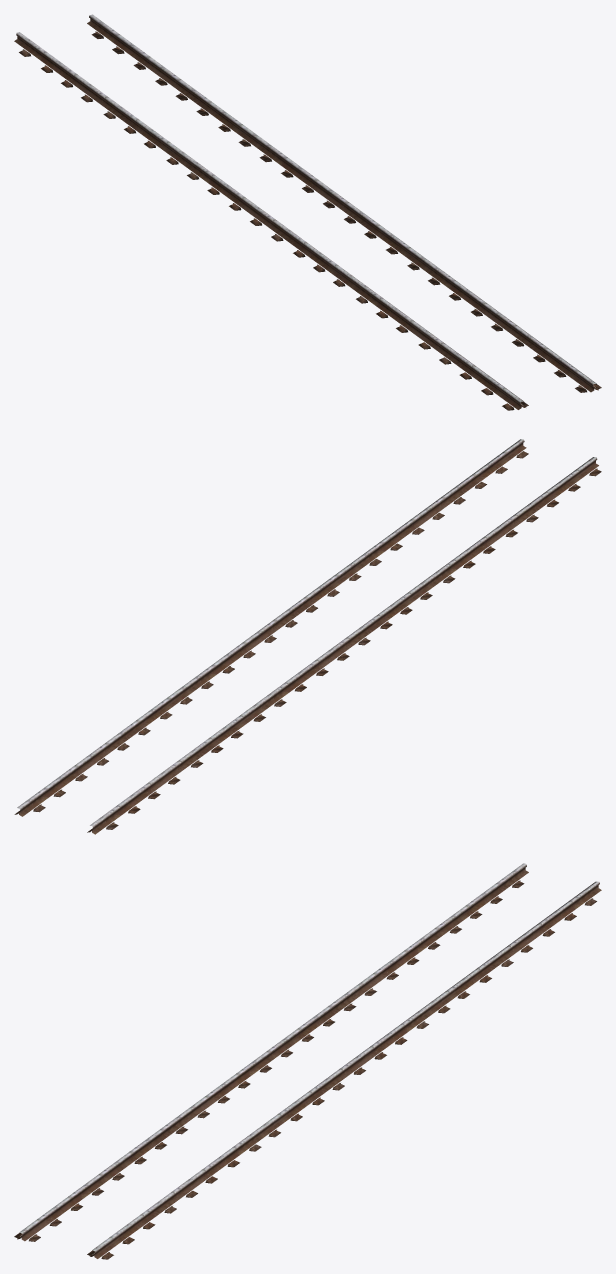
The model's file is train_track_nogravel_3x18.glb.
3 views of the same model, one above another, from view 1: azimuth 30°, elevation 25°; view 2: azimuth 150°, elevation 25°; view 3: azimuth 330°, elevation 25° (orthographic).
Visible parts, largest first — view 1: train_track_nogravel_3x18; view 2: train_track_nogravel_3x18; view 3: train_track_nogravel_3x18.
Part boxes in pixels (bbox=[...]): train_track_nogravel_3x18: bbox=[14, 14, 601, 410]; train_track_nogravel_3x18: bbox=[14, 439, 601, 834]; train_track_nogravel_3x18: bbox=[14, 863, 601, 1259].
Bounding box in the file's own units: 1.94 × 0.1868 × 18.
1 material, 1 textured.
